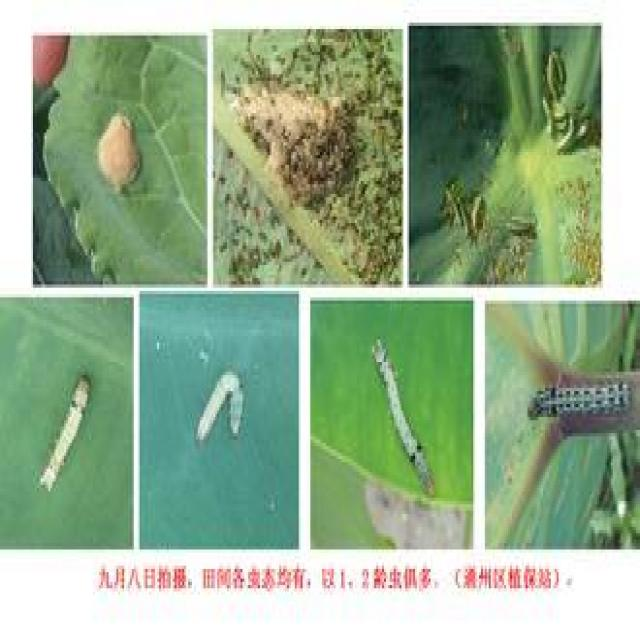BeetArmyWorm-Larva-: (365, 329, 445, 499), (31, 372, 99, 503), (187, 355, 248, 453), (527, 371, 638, 421)
